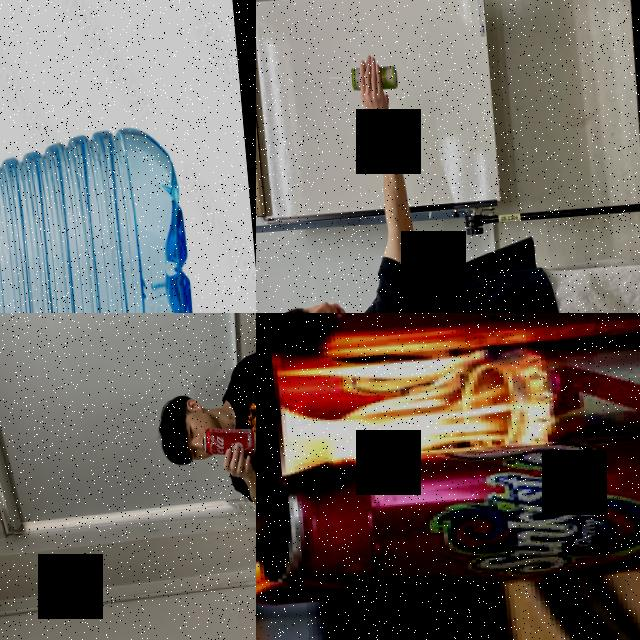bottle: (0, 119, 205, 313)
can: (275, 424, 640, 608), (256, 313, 640, 365), (201, 423, 256, 456), (348, 62, 398, 93)
